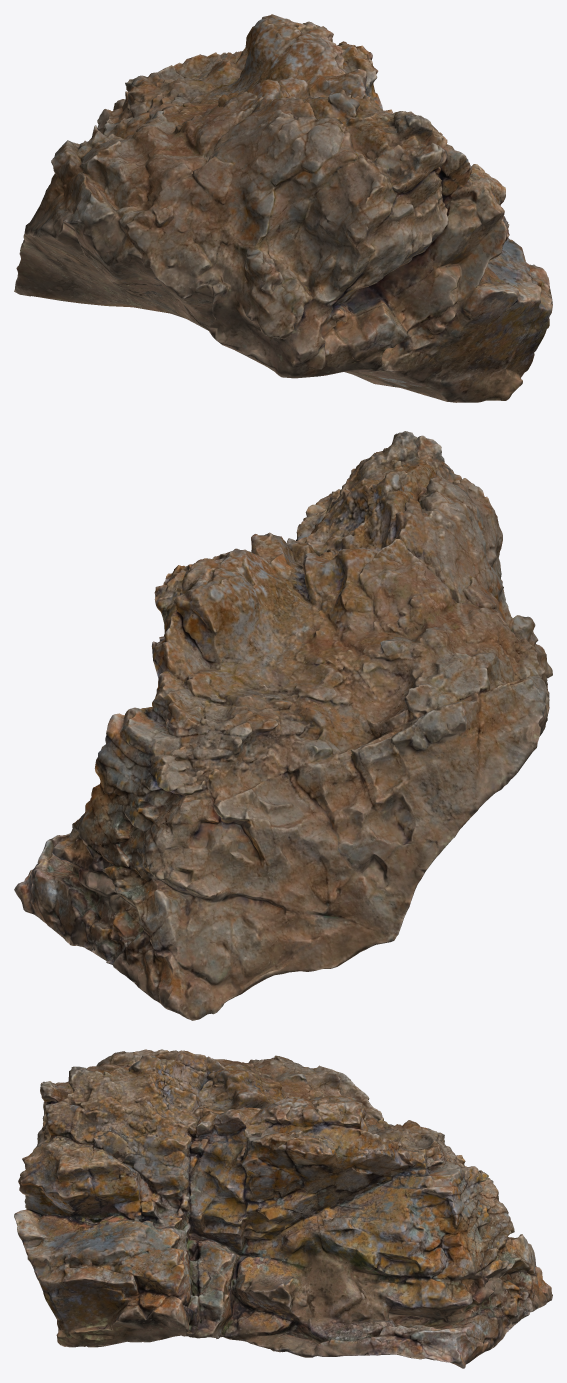
The model's file is boulder_01.glb.
3 views of the same model, one above another, from view 1: azimuth 30°, elevation 25°; view 2: azimuth 150°, elevation 25°; view 3: azimuth 270°, elevation 25° (orthographic). The views are drawn at different scales.
Visible parts, largest first — view 1: boulder_01; view 2: boulder_01; view 3: boulder_01.
Part boxes in pixels (x1=…): boulder_01: x1=14, y1=14, x2=552, y2=402; boulder_01: x1=14, y1=431, x2=552, y2=1020; boulder_01: x1=14, y1=1049, x2=552, y2=1368.
Bounding box in the file's own units: 1.27 × 1 × 1.83.
1 material, 1 textured.
